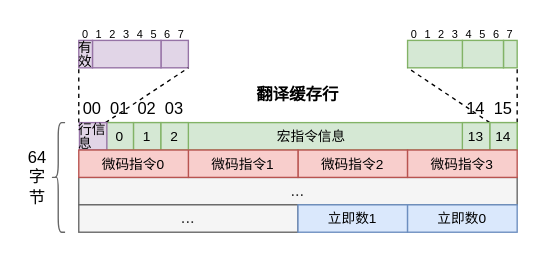
This 543x256 diagram has some shape labels left out. The centre of each missing label's shape, as x and y in pixels:
宏码数量: point 126,53
宏码长度: point 434,53
微码数量: point 482,53
